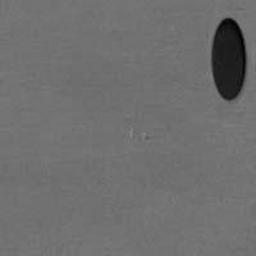Punching: (211, 17, 247, 101)
